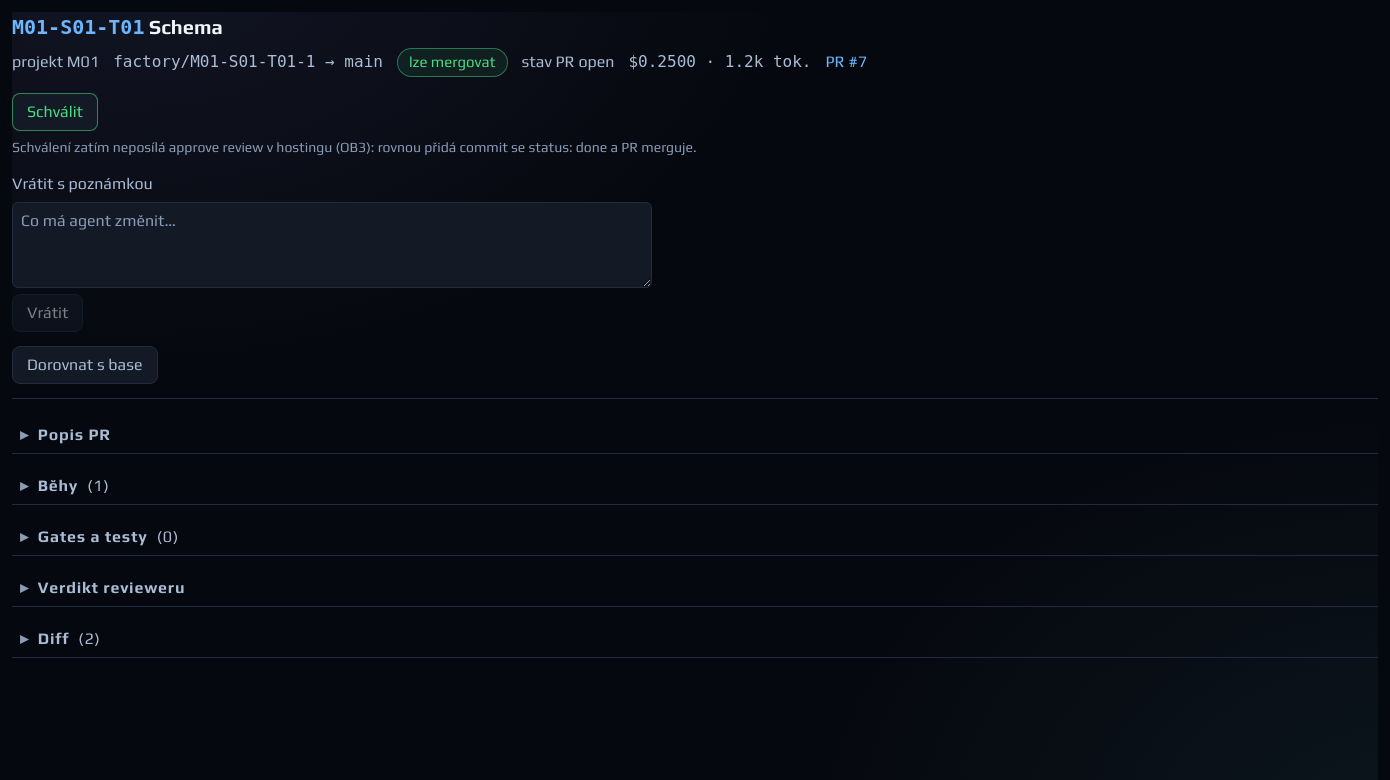
Scenario: ReviewDetail › handles no checks and no verdict
Click the button with class "dsec-head" showing "▸ Gates a testy (0)".
click(93, 536)  # box [12, 518, 1378, 556]
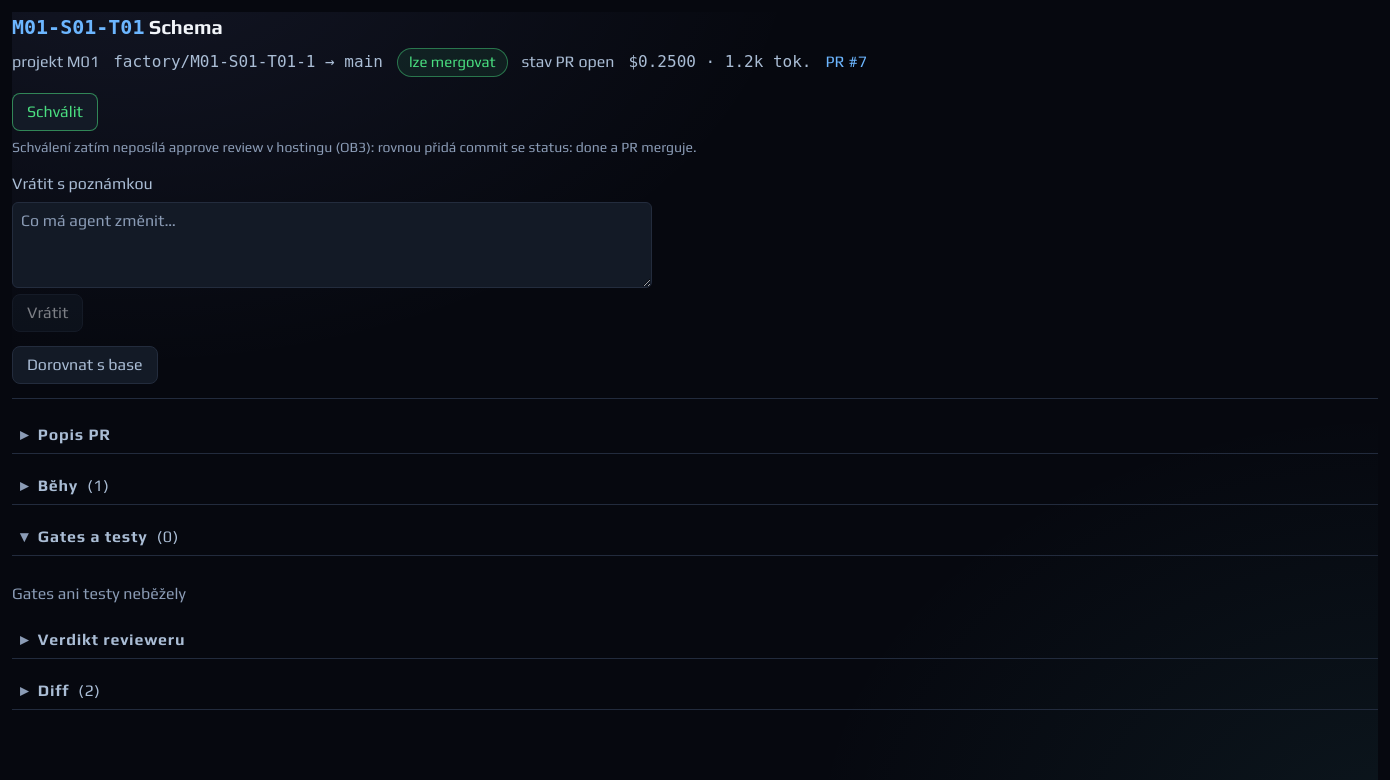
Click the button with class "dsec-head" showing "▸ Verdikt revieweru".
click(112, 639)  # box [12, 622, 1378, 658]
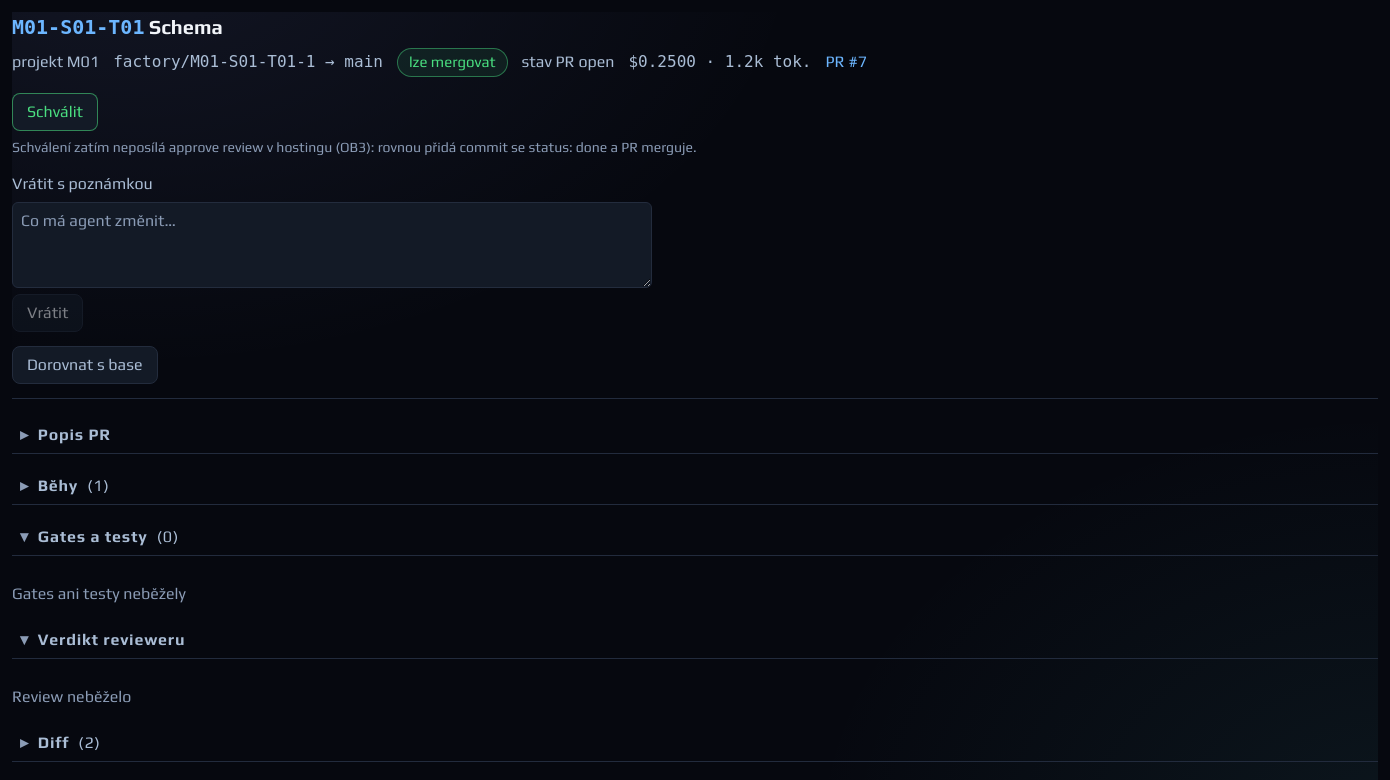
Expected: the text with test id "no-checks" reads "Gates ani testy neběžely", [12, 584, 186, 602]
Expected: the text with test id "no-verdict" reads "Review neběželo", [12, 686, 131, 706]
